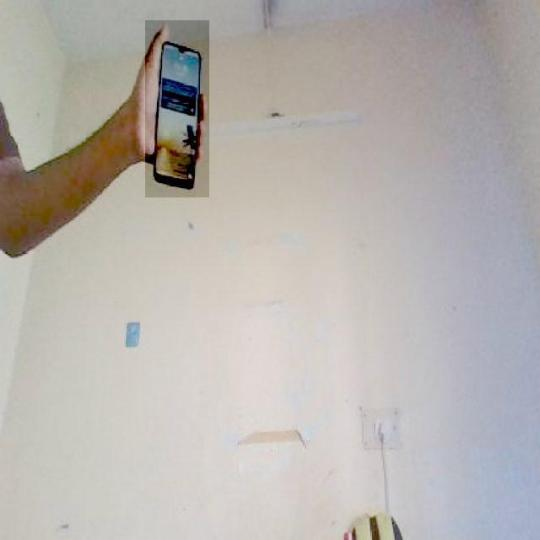phone: (151, 39, 207, 190)
